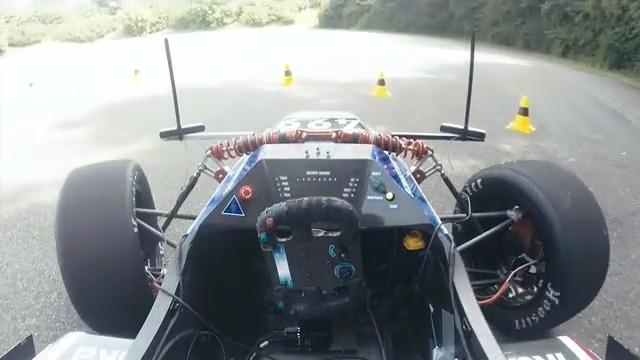yellow_cone: (506, 88, 536, 132), (371, 72, 390, 99), (278, 64, 295, 87), (131, 67, 146, 90)
